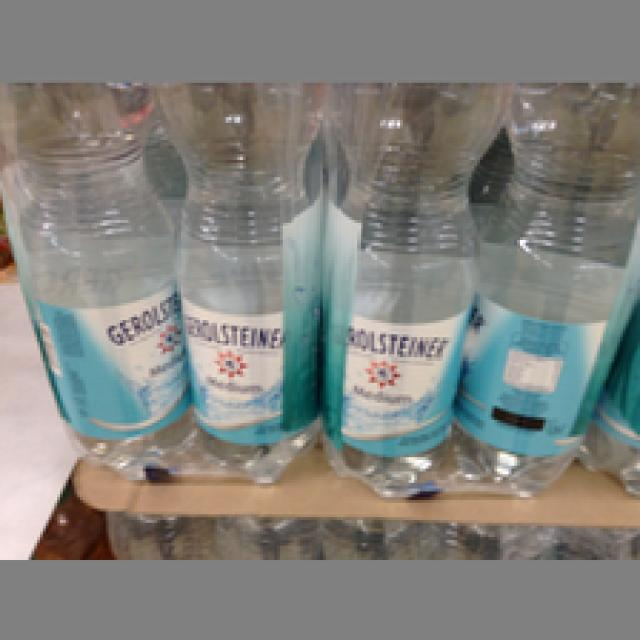groceries: (314, 80, 503, 491), (148, 80, 332, 483), (0, 82, 191, 468), (466, 83, 637, 488)
